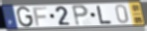0: (114, 4, 130, 25)
2: (55, 6, 74, 27)
F: (32, 6, 49, 27)
G: (16, 6, 35, 29)
L: (95, 5, 113, 25)
P: (70, 4, 90, 27)
